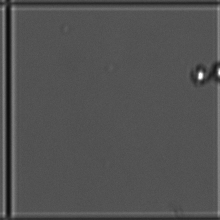Living Cell: (187, 62, 211, 86)
